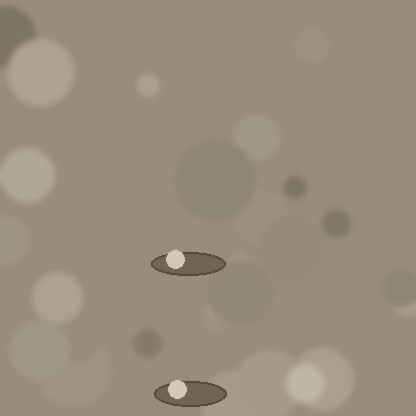gota: (154, 382, 226, 408), (151, 253, 225, 277)
